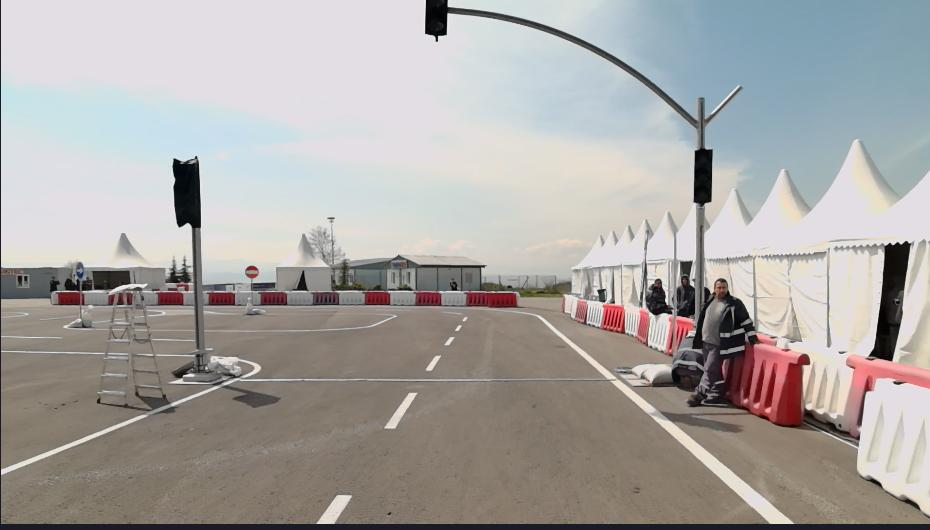nesne: (0, 307, 796, 522), (314, 308, 794, 522), (1, 308, 472, 525), (539, 316, 792, 521), (448, 5, 746, 147), (722, 331, 929, 516), (0, 357, 259, 475), (0, 300, 367, 365), (857, 374, 928, 509), (691, 278, 761, 402), (96, 282, 165, 405), (721, 328, 809, 422), (839, 357, 929, 436), (776, 339, 855, 428), (257, 290, 519, 305), (206, 312, 394, 330), (189, 224, 205, 368), (175, 155, 203, 230), (669, 324, 703, 385), (617, 360, 673, 387), (384, 390, 417, 429), (663, 315, 696, 352), (317, 491, 354, 524), (668, 273, 696, 316), (696, 204, 706, 315), (693, 148, 711, 204), (423, 0, 445, 44), (645, 313, 669, 352), (468, 292, 519, 305), (646, 279, 667, 310), (631, 307, 650, 341), (151, 307, 243, 314), (600, 304, 624, 330), (207, 352, 239, 371), (0, 348, 101, 354), (623, 304, 639, 334), (584, 302, 602, 328), (570, 299, 588, 324), (285, 290, 312, 306), (439, 291, 467, 306), (312, 291, 339, 306), (364, 289, 391, 304), (171, 361, 194, 378), (181, 371, 220, 381), (260, 291, 287, 305), (415, 291, 440, 306), (560, 295, 577, 317), (156, 291, 182, 305), (338, 291, 365, 304), (83, 290, 107, 304), (423, 352, 441, 370), (209, 292, 233, 305), (390, 292, 415, 304), (57, 292, 78, 304), (158, 350, 194, 356), (245, 304, 262, 316), (235, 291, 250, 304), (595, 287, 608, 302), (78, 278, 82, 326), (246, 264, 260, 277), (75, 261, 85, 278), (182, 292, 195, 305), (250, 288, 260, 304), (144, 293, 156, 306), (48, 276, 60, 289), (64, 276, 75, 288), (443, 334, 454, 345), (447, 278, 458, 289), (82, 277, 92, 289), (202, 293, 211, 305), (51, 291, 59, 304), (251, 277, 255, 303), (65, 318, 77, 326), (82, 316, 89, 326)
